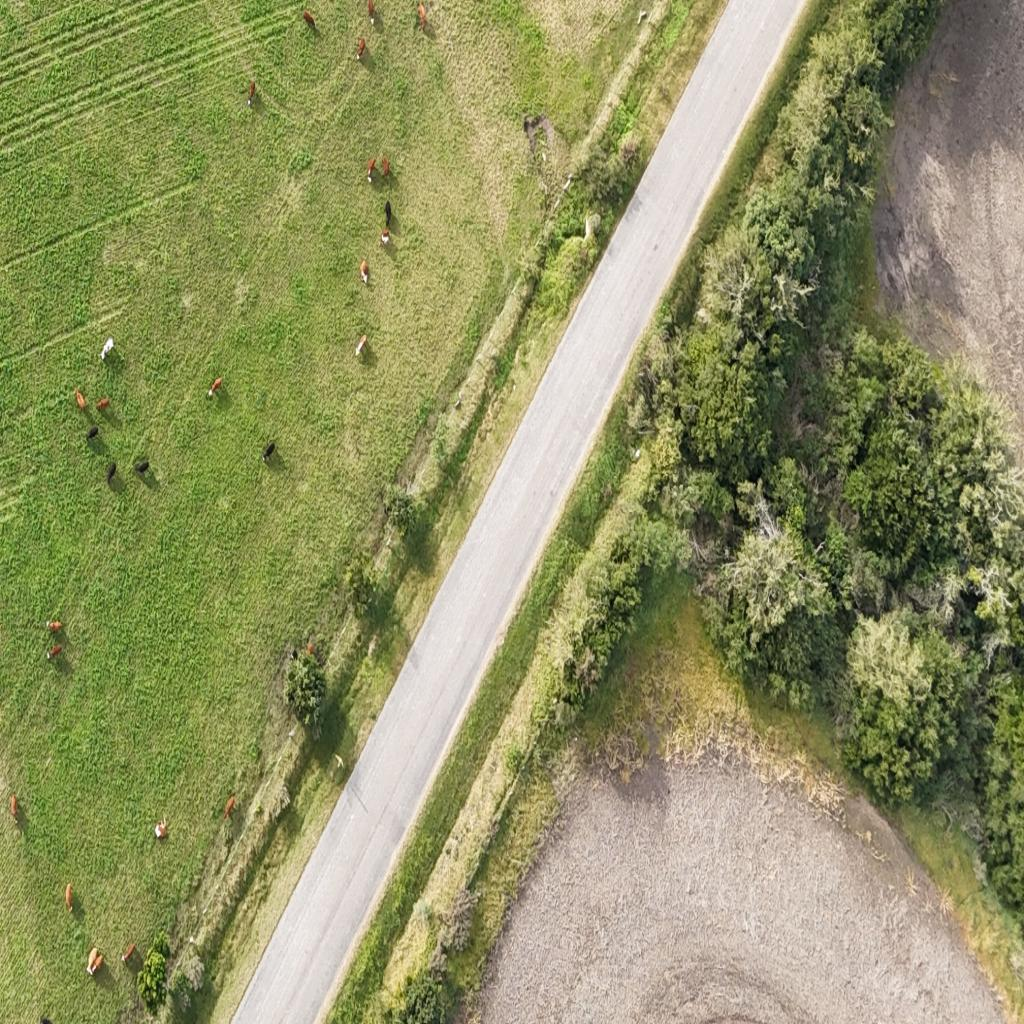cow: (207, 376, 222, 400), (101, 339, 115, 364), (156, 817, 170, 840), (122, 943, 136, 965), (224, 795, 236, 820), (262, 441, 276, 462), (87, 944, 97, 973), (417, 3, 427, 32), (356, 334, 368, 358), (356, 36, 366, 64), (106, 461, 117, 485), (304, 10, 316, 32), (134, 458, 150, 474), (92, 954, 104, 975), (384, 197, 392, 228), (367, 157, 376, 184), (65, 883, 74, 910), (75, 388, 86, 410), (46, 618, 62, 632), (379, 228, 390, 248), (10, 794, 18, 821), (47, 644, 62, 658), (86, 426, 99, 442), (368, 0, 376, 26), (360, 260, 368, 285), (248, 81, 255, 107), (96, 398, 109, 410), (382, 156, 389, 178), (40, 1016, 53, 1024), (290, 649, 298, 661), (307, 644, 314, 655)
